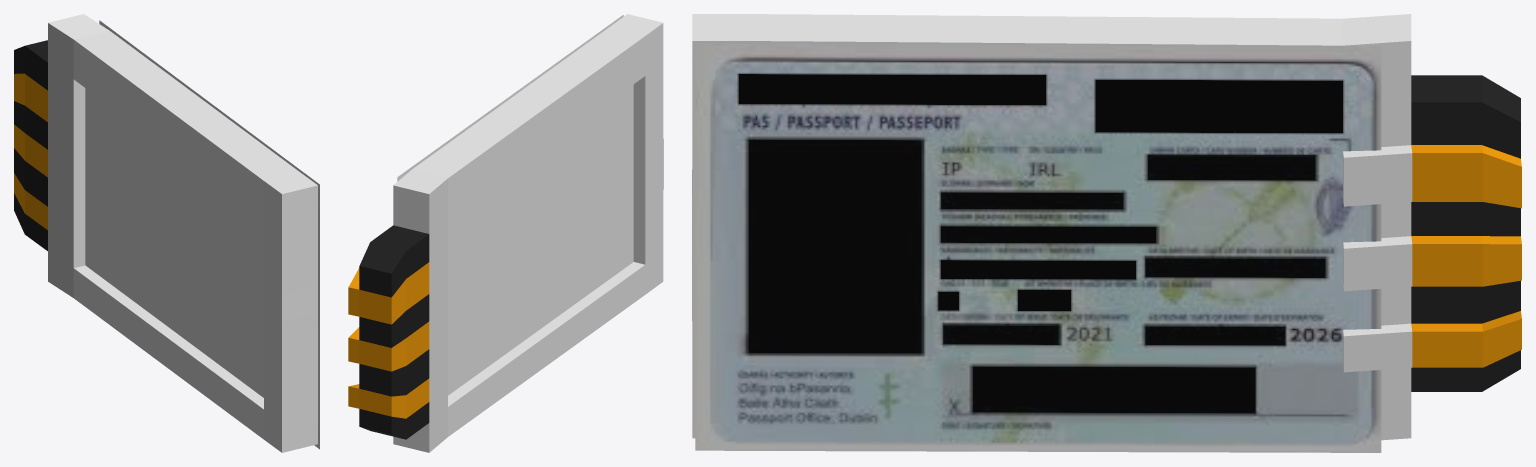
The model's file is keycard.fbx.
The picture shows the model from 3 angles, left to right: view 1: azimuth 30°, elevation 25°; view 2: azimuth 150°, elevation 25°; view 3: azimuth 270°, elevation 25°; orthographic projection. The views are drawn at different scales.
Parts seen in each view (by area): view 1: Cube, keycard; view 2: Cube, keycard; view 3: keycard, Cube.
Boxes of the visible parts, x1,y1,x2,y2 form: Cube: (14,14,317,452); keycard: (99,20,319,449); Cube: (348,14,663,452); keycard: (397,15,623,181); keycard: (695,43,1381,452); Cube: (692,14,1521,440).
Size of the model in its own units: 13.07 by 65.97 by 122.
2 materials, 2 textured.
